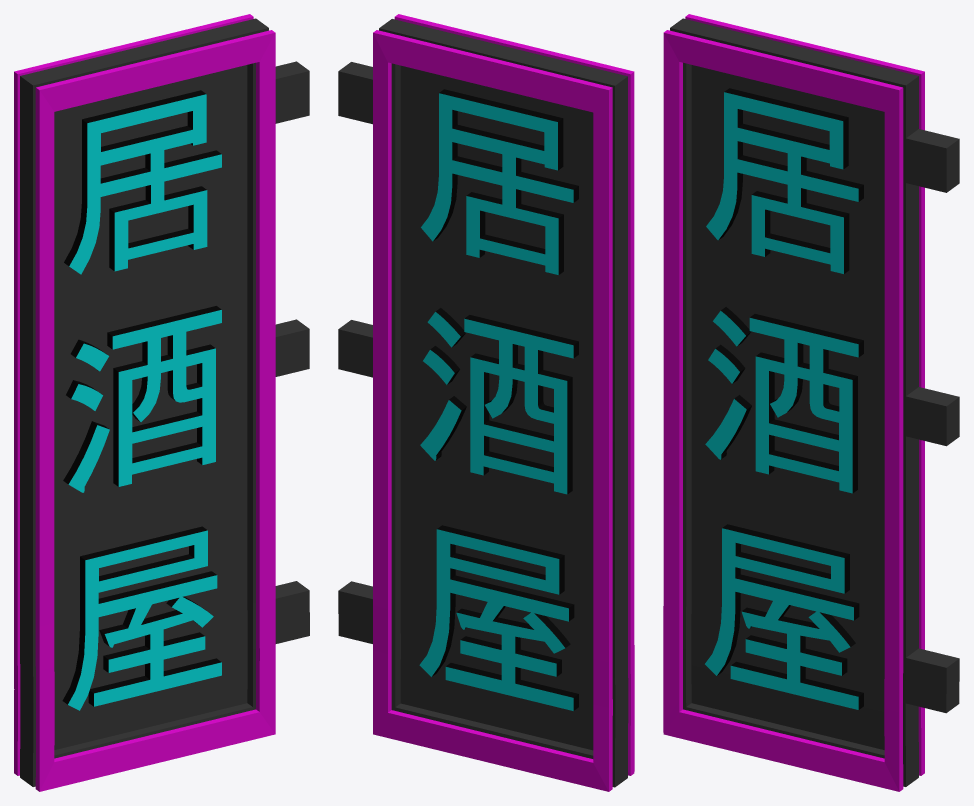
File: neon_sign.fbx
3 views of the same model, side by side, from view 1: azimuth 30°, elevation 25°; view 2: azimuth 150°, elevation 25°; view 3: azimuth 330°, elevation 25° (orthographic).
Visible parts, largest first — view 1: polySurface3, typeMesh1; view 2: polySurface3, typeMesh2; view 3: polySurface3, typeMesh1.
Part boxes in pixels (<box>): polySurface3: <box>14,14,309,791</box>; typeMesh1: <box>62,90,221,710</box>; polySurface3: <box>338,14,634,791</box>; typeMesh2: <box>419,89,578,710</box>; polySurface3: <box>663,14,959,791</box>; typeMesh1: <box>705,88,863,709</box>.
Bounding box in the file's own units: 3.52 × 8.53 × 0.5743.
